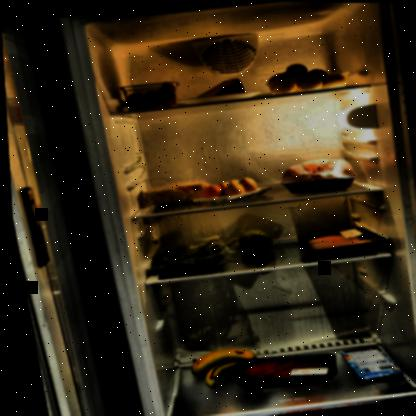apple: (233, 226, 269, 251)
banana: (183, 342, 264, 392)
beef: (220, 345, 337, 396)
cheese: (185, 75, 248, 104)
chicken: (293, 220, 388, 263), (274, 150, 359, 196)
chocolate: (334, 341, 399, 384)
eggs: (199, 175, 257, 204)
green_beans: (138, 234, 237, 279)
potato: (261, 56, 353, 96)
strawberries: (117, 78, 181, 113)
